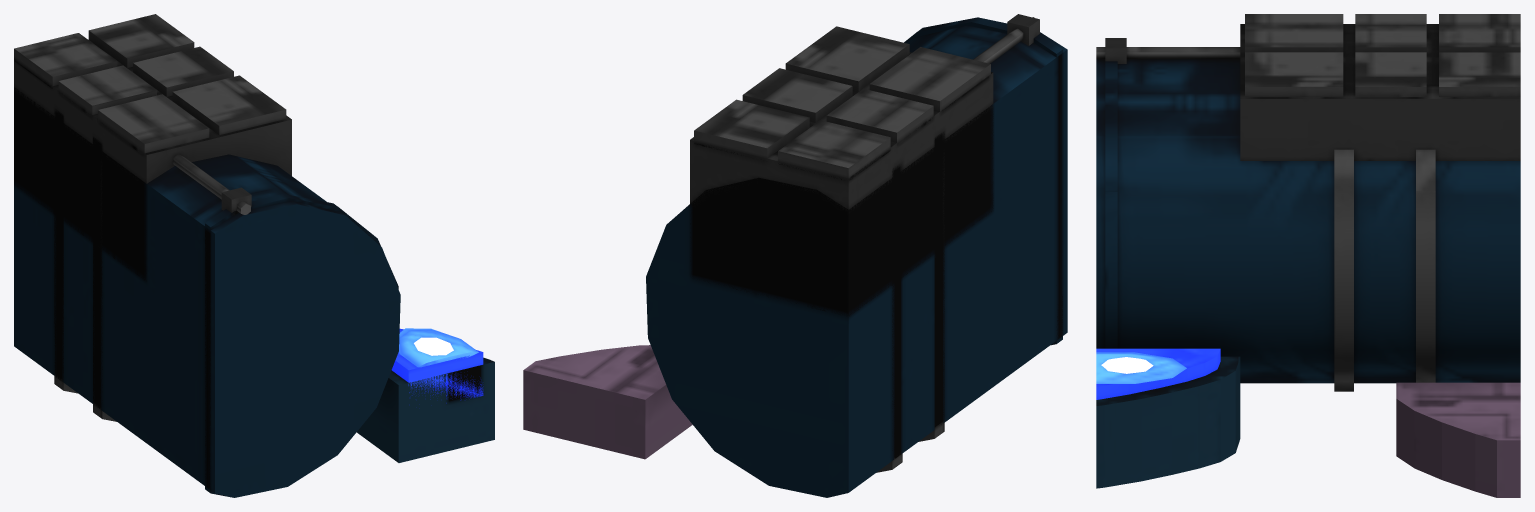
The model's file is newshb-45.glb.
3 views of the same model, side by side, from view 1: azimuth 30°, elevation 25°; view 2: azimuth 150°, elevation 25°; view 3: azimuth 270°, elevation 25° (orthographic). The views are drawn at different scales.
Parts seen in each view (by area): view 1: newshb-45; view 2: newshb-45; view 3: newshb-45.
Part boxes in pixels (left/top/right/bottom): newshb-45: left=14, top=14, right=494, bottom=497; newshb-45: left=523, top=14, right=1067, bottom=497; newshb-45: left=1096, top=14, right=1520, bottom=497.
Size of the model in its own units: 2 by 2.02 by 2.33.
Materials: 9 (9 with a texture image).
